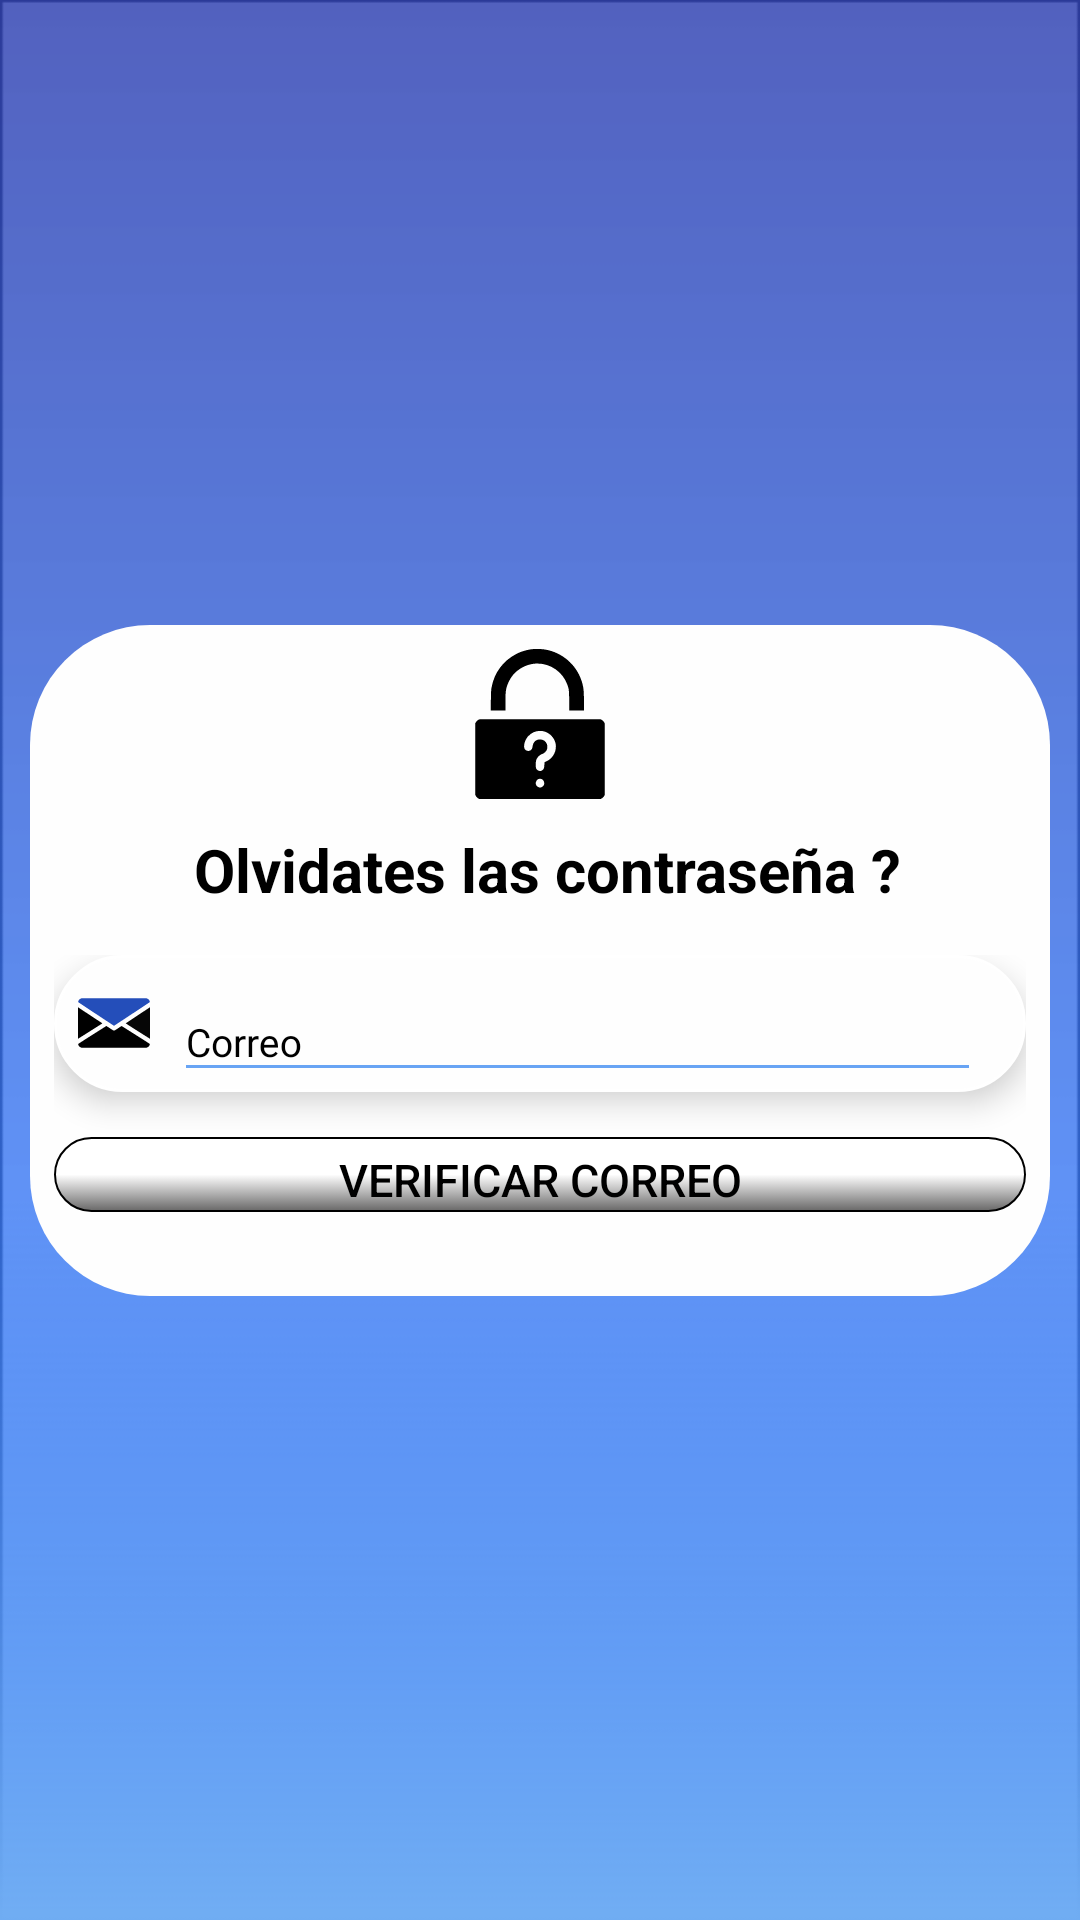

Icons on this 1080w x 1920h Android screen, each with its box as Rect(x1, y1, x2, y2):
bloquear: Rect(475, 649, 605, 799)
email: Rect(78, 998, 150, 1048)
